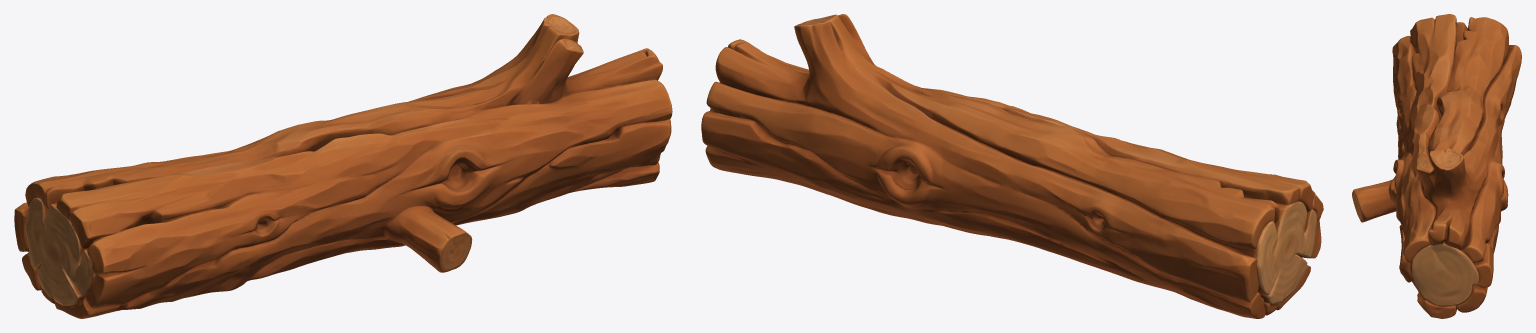
Rendered from WoodMedium.fbx.
The picture shows the model from 3 angles, left to right: view 1: azimuth 30°, elevation 25°; view 2: azimuth 150°, elevation 25°; view 3: azimuth 270°, elevation 25°; orthographic projection. The views are drawn at different scales.
Visible parts, largest first — view 1: tripo_node_132f14b0; view 2: tripo_node_132f14b0; view 3: tripo_node_132f14b0.
Part boxes in pixels (bbox=[...]): tripo_node_132f14b0: bbox=[14, 14, 672, 318]; tripo_node_132f14b0: bbox=[701, 14, 1323, 318]; tripo_node_132f14b0: bbox=[1352, 14, 1521, 318].
Bounding box in the file's own units: 1 × 0.288 × 0.3255.
